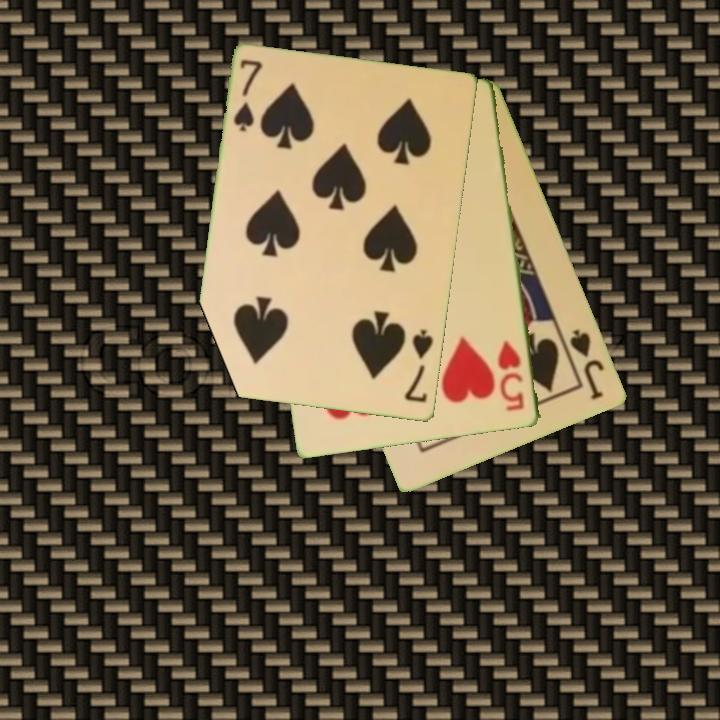5h: (495, 337, 528, 415)
7s: (401, 326, 437, 406), (230, 56, 266, 136)
Js: (567, 325, 608, 403)
